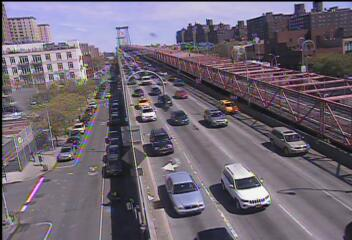neg: (237, 100, 259, 129), (99, 67, 120, 96), (100, 116, 120, 143), (173, 126, 190, 149), (230, 164, 247, 187), (158, 72, 175, 94), (90, 164, 106, 185), (153, 180, 162, 192), (195, 174, 202, 183)
pos: (35, 151, 47, 166), (27, 150, 36, 163)
